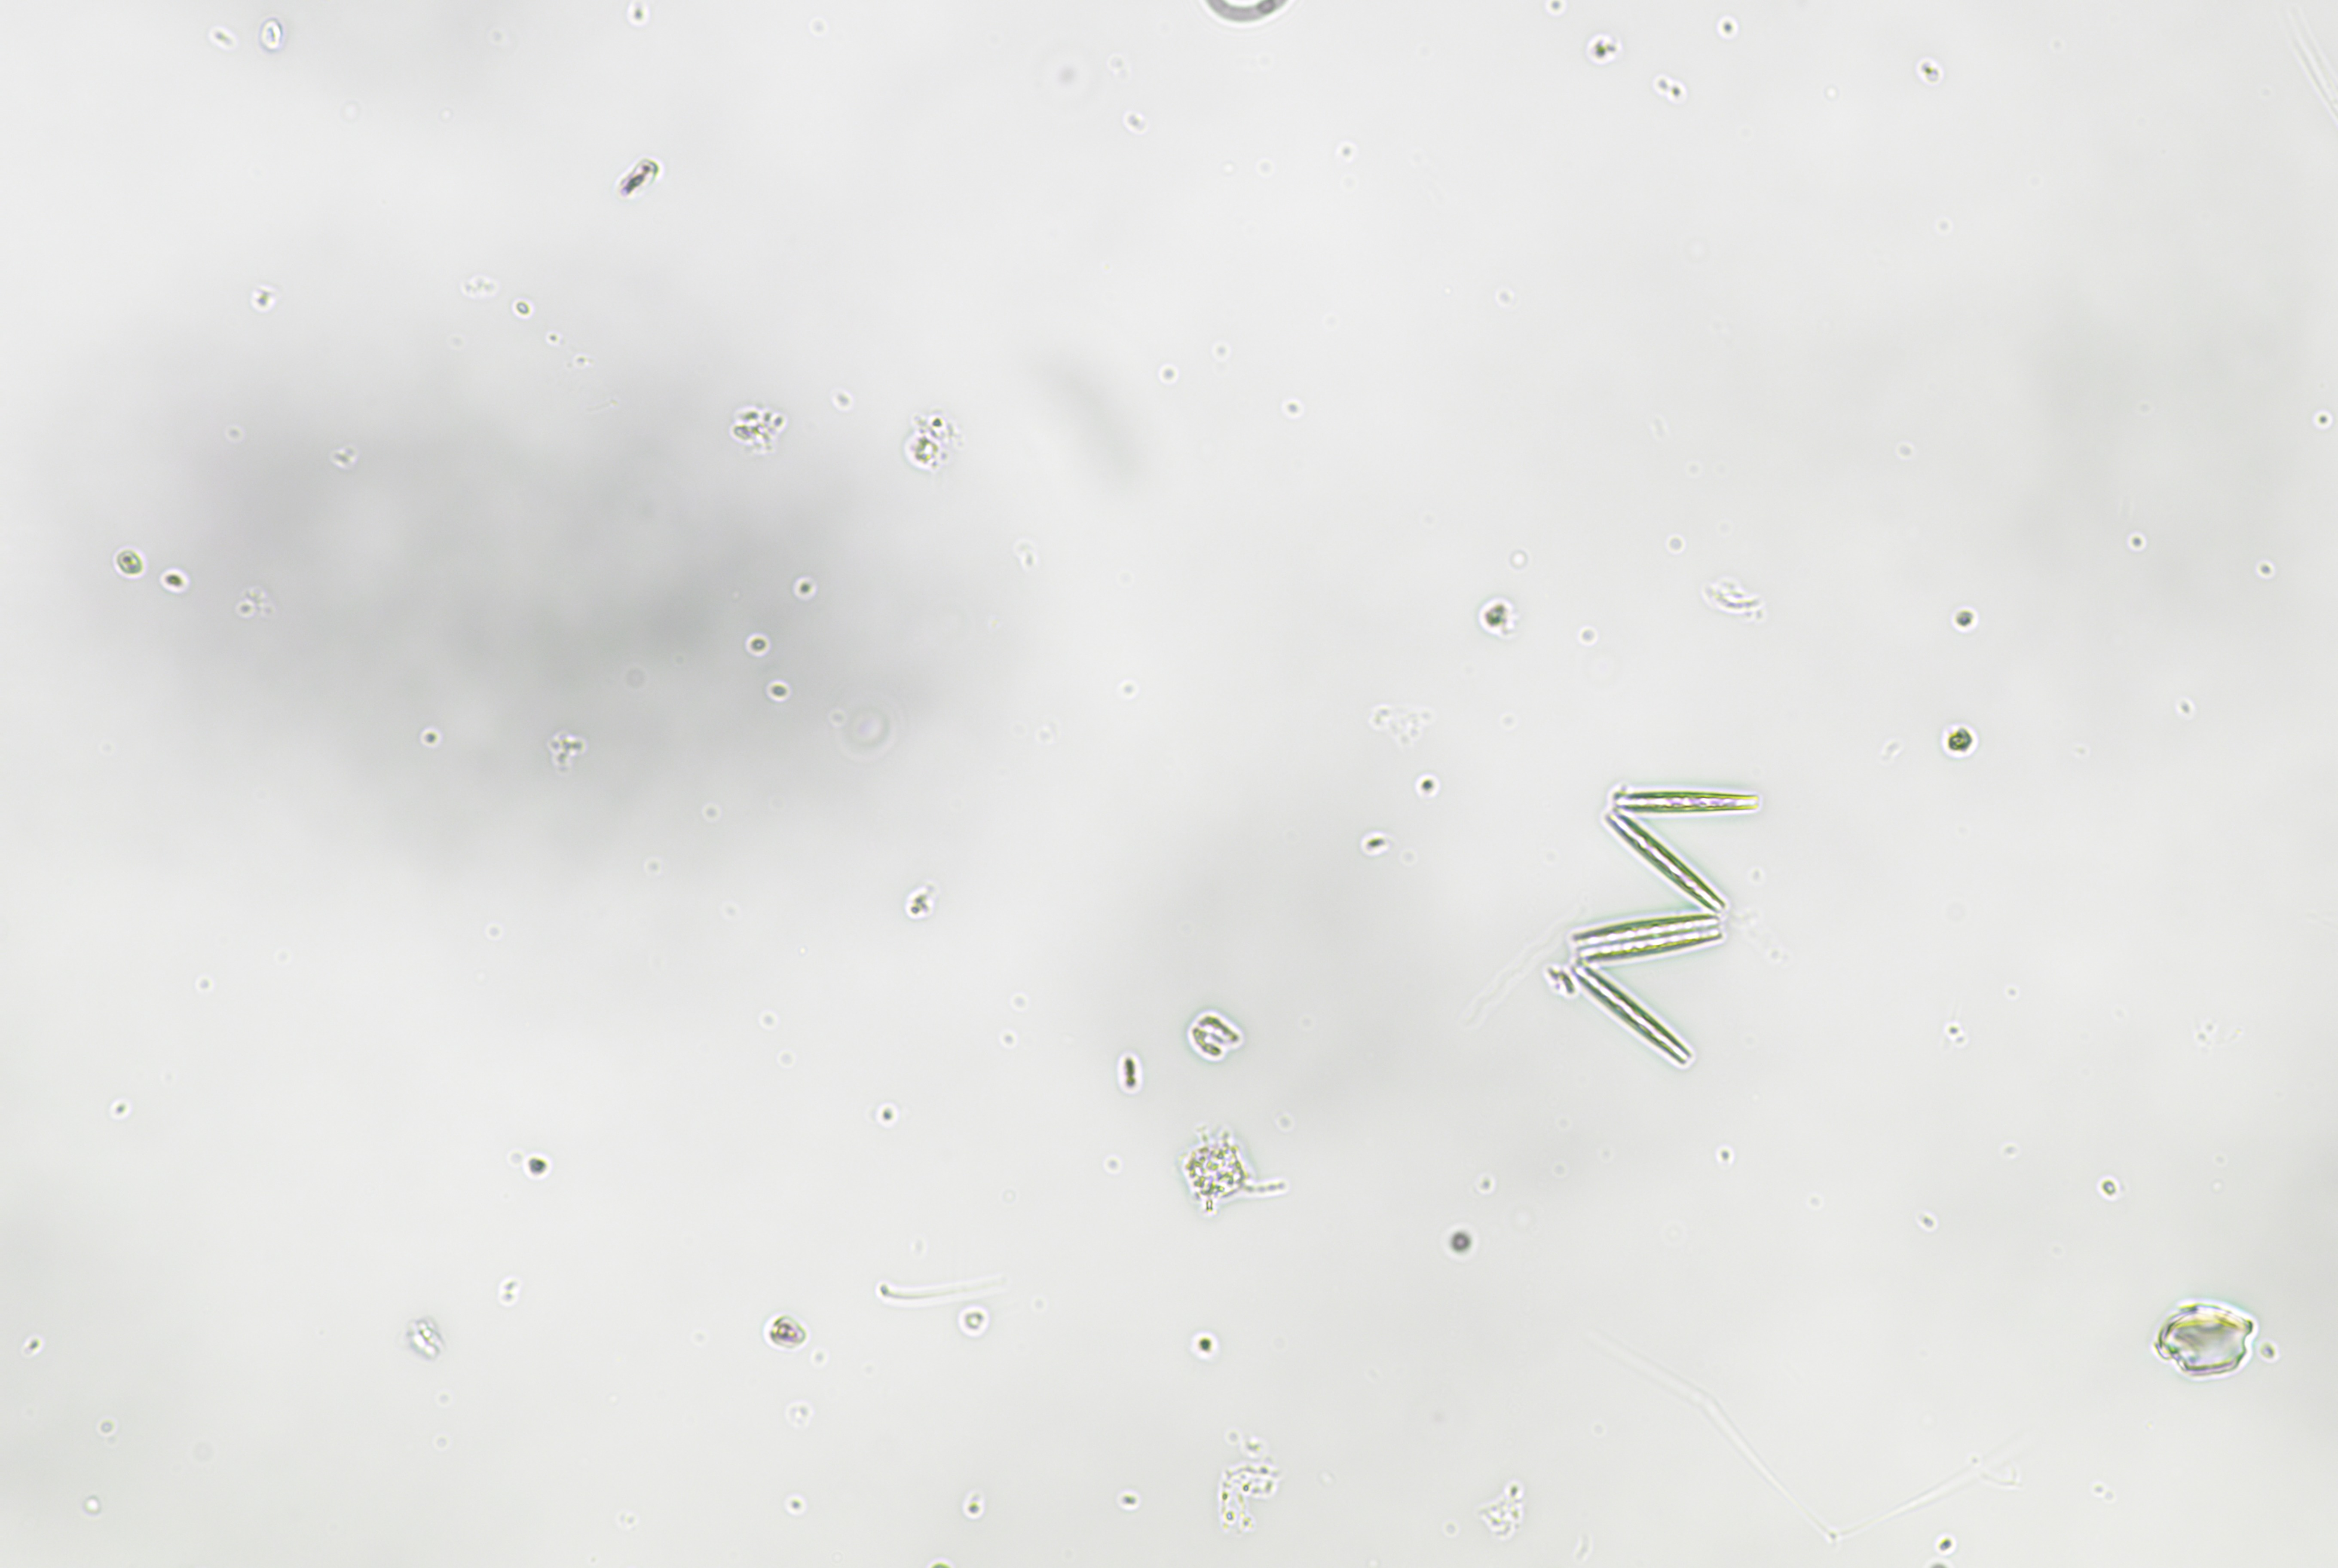thalassionema nitzschioides: (1540, 740, 1762, 1094)
